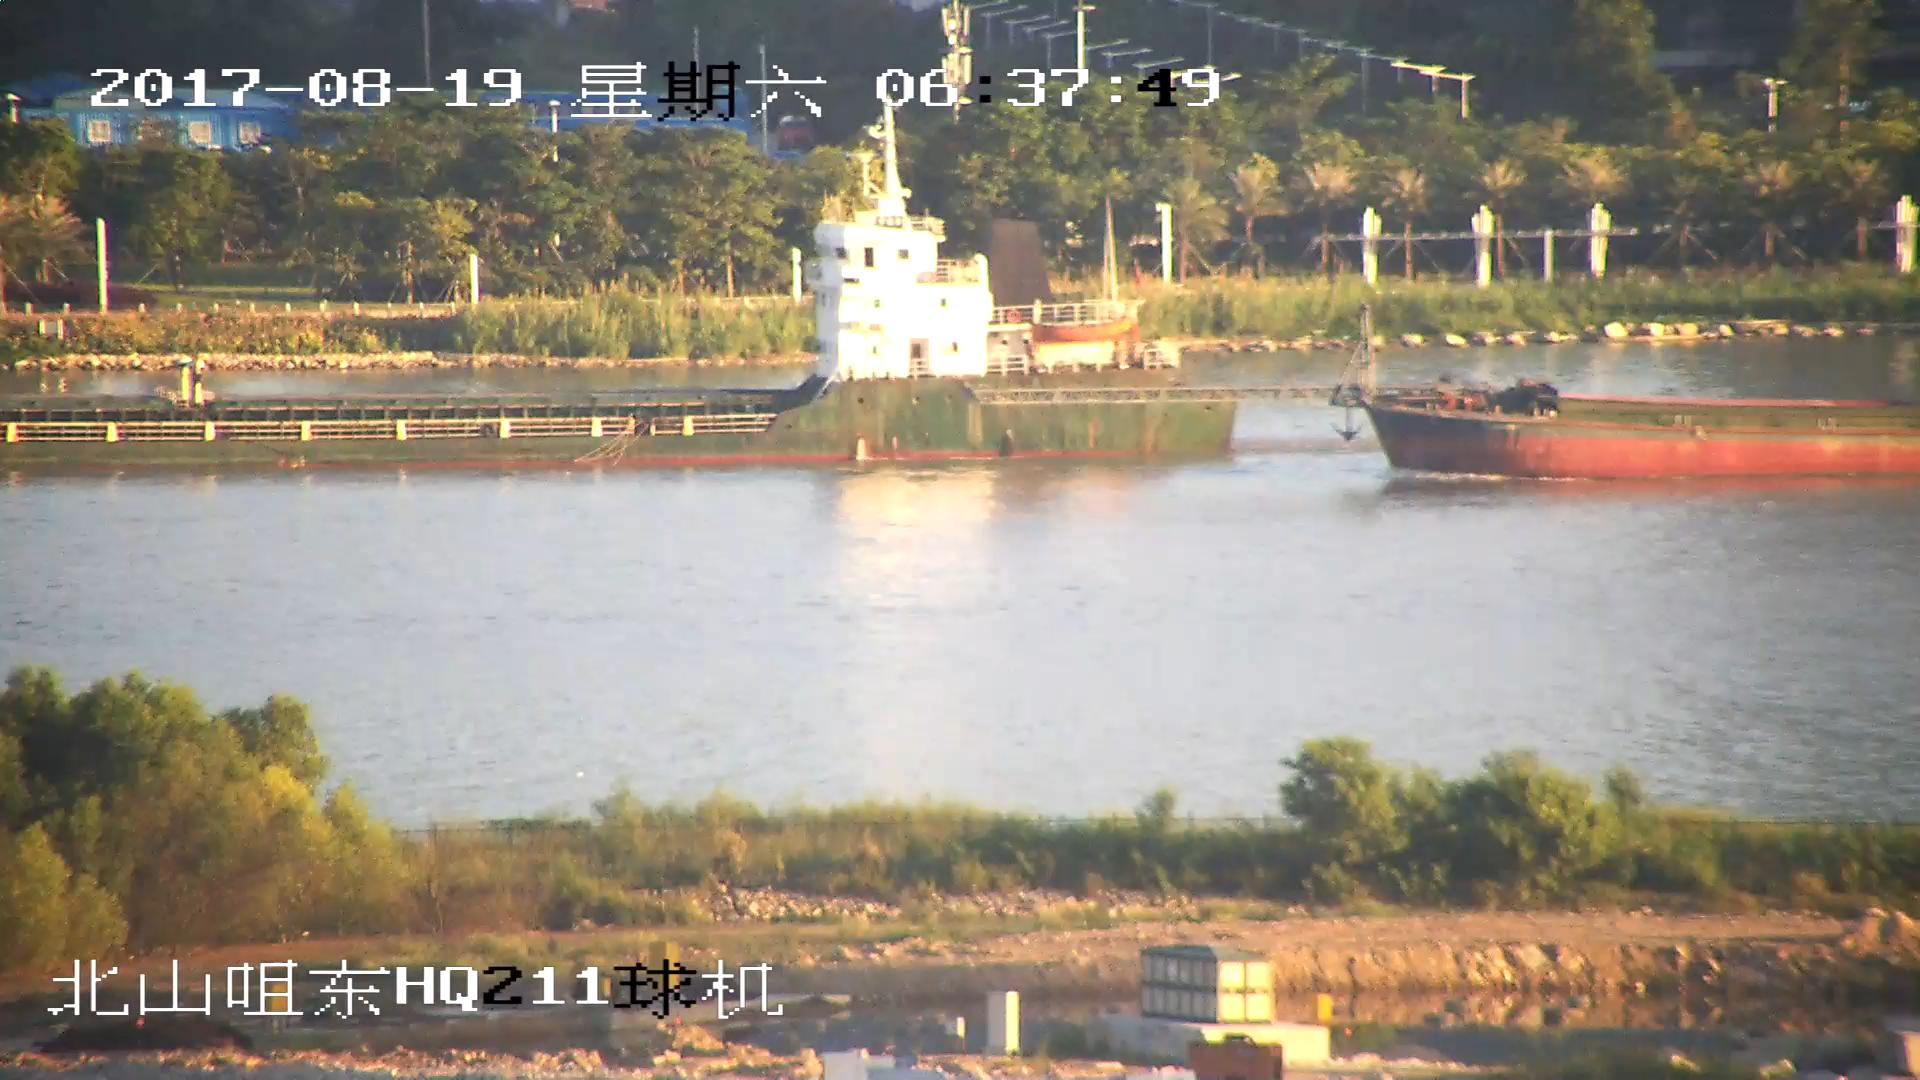bulk cargo carrier: (1257, 331, 1920, 479)
general cargo ship: (1, 164, 1236, 463)
